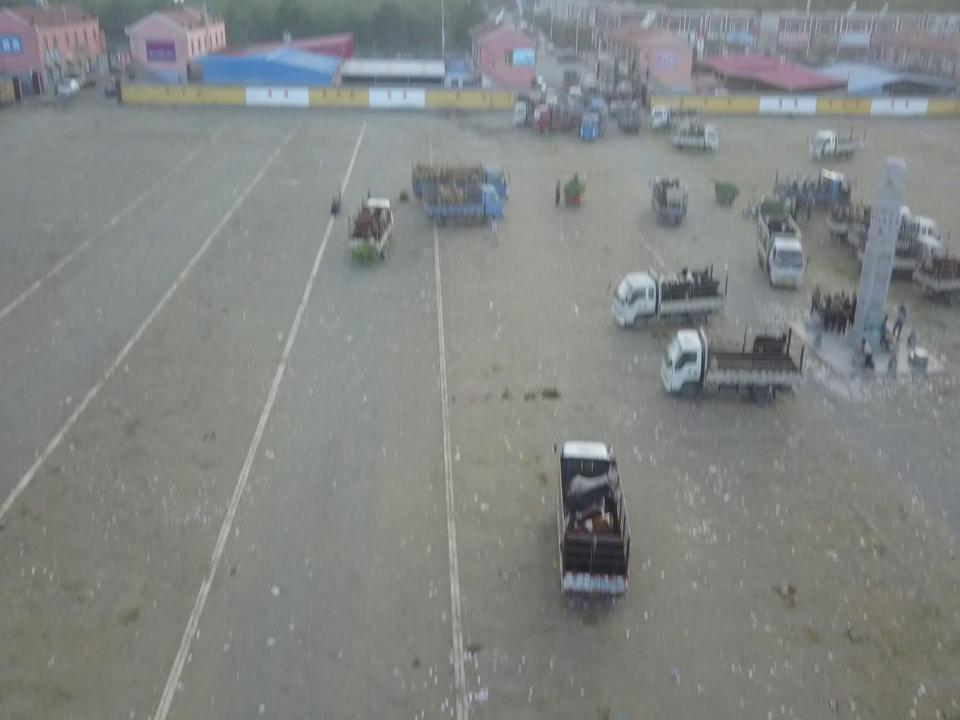car: (57, 74, 79, 98), (105, 78, 117, 96)
truck: (554, 436, 626, 600), (663, 330, 793, 398), (610, 272, 723, 327), (412, 158, 511, 204), (757, 204, 805, 290), (774, 166, 850, 212), (426, 183, 506, 225), (357, 193, 393, 263), (651, 171, 687, 227), (812, 128, 864, 165), (675, 116, 718, 152), (536, 97, 573, 135), (652, 105, 700, 134), (583, 103, 601, 144)
